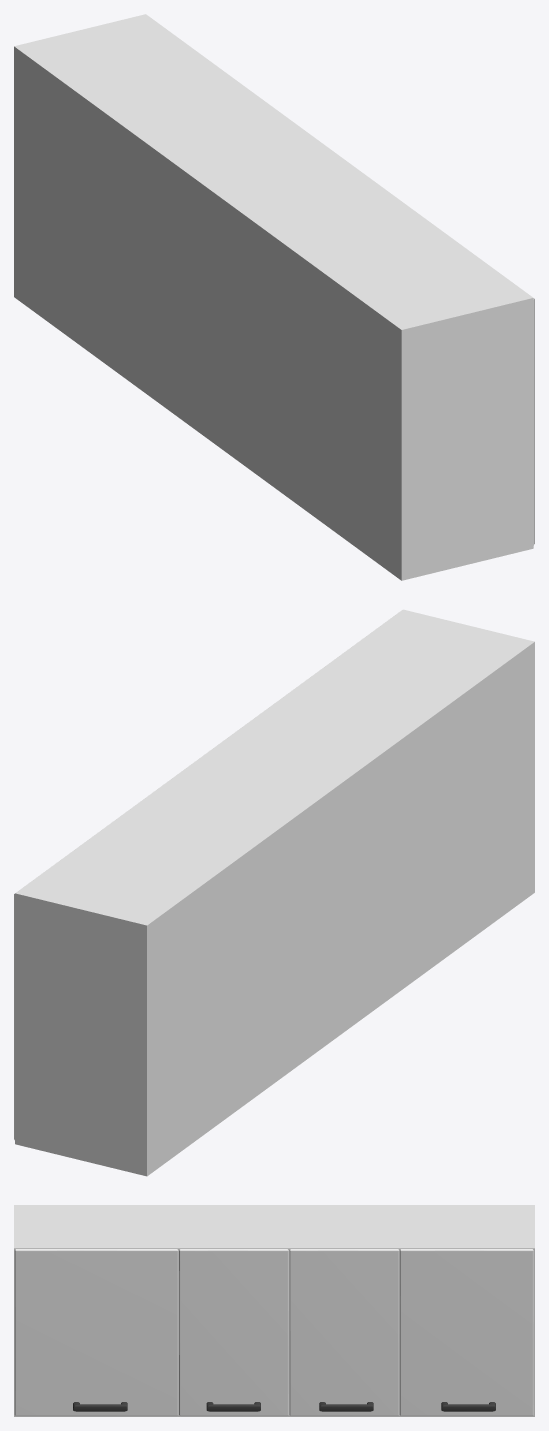
File: kitchen_056.fbx
The picture shows the model from 3 angles, top to bottom: view 1: azimuth 30°, elevation 25°; view 2: azimuth 150°, elevation 25°; view 3: azimuth 270°, elevation 25°; orthographic projection. The views are drawn at different scales.
Parts seen in each view (by area): view 1: kitchen_056; view 2: kitchen_056; view 3: kitchen_056.
Boxes of the visible parts, bbox=[...] form: kitchen_056: bbox=[14, 14, 534, 580]; kitchen_056: bbox=[14, 609, 534, 1176]; kitchen_056: bbox=[14, 1205, 534, 1416].
Size of the model in its own units: 64.12 by 294 by 105.
